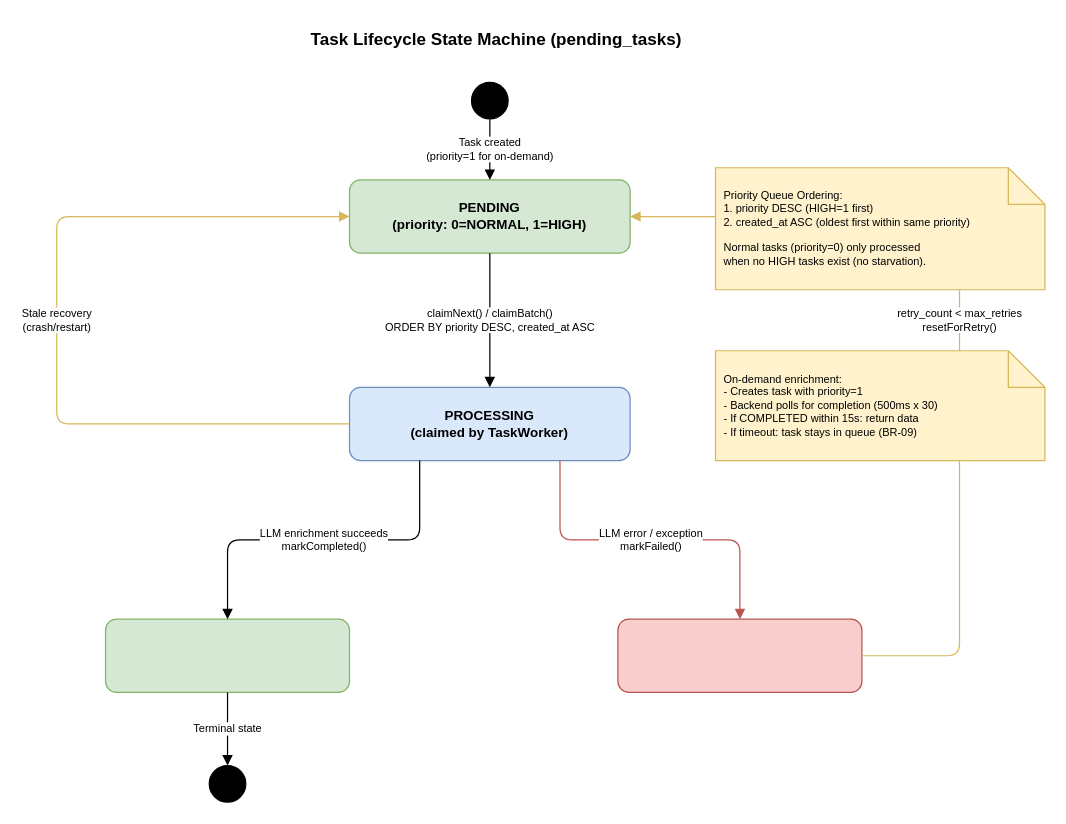
This 1066x824 diagram has some shape labels left out. The shapes that lost their labels are listed below. From the top down, each one's centre as x and y in pixels, then its label:
At (x=227, y=655): "COMPLETED (enrichment saved)".
At (x=739, y=655): "FAILED (error recorded)".
